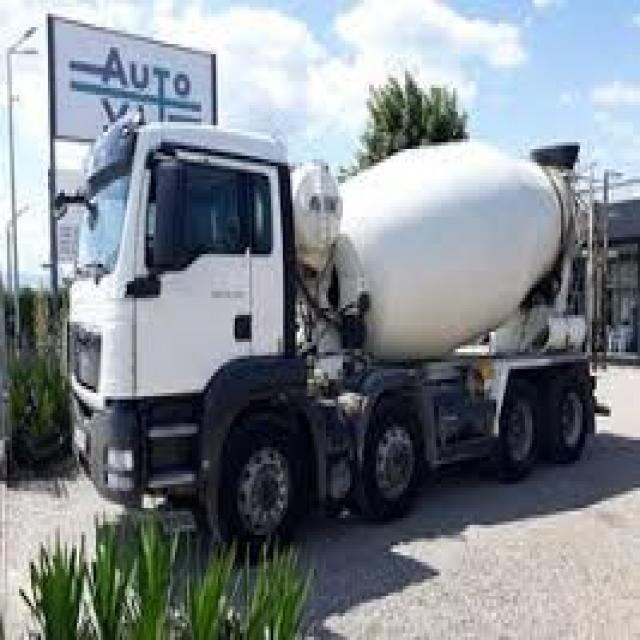Mixer Truck: (49, 107, 621, 563)
